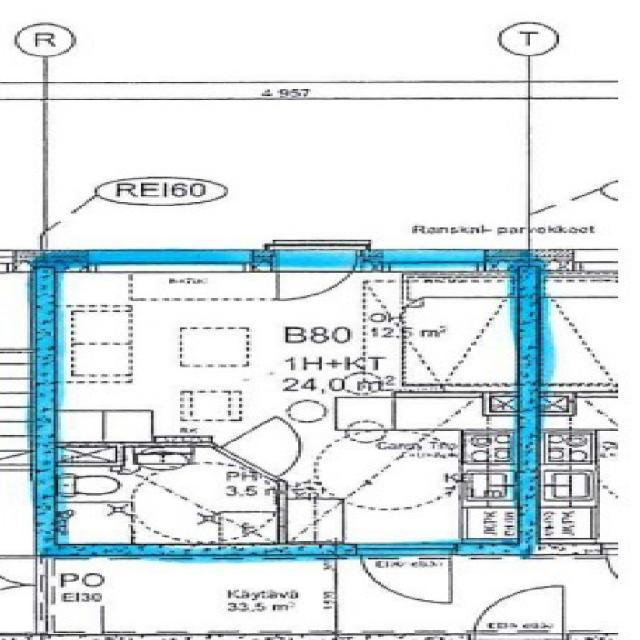door: (216, 416, 333, 479), (362, 546, 453, 604), (277, 249, 354, 313)
